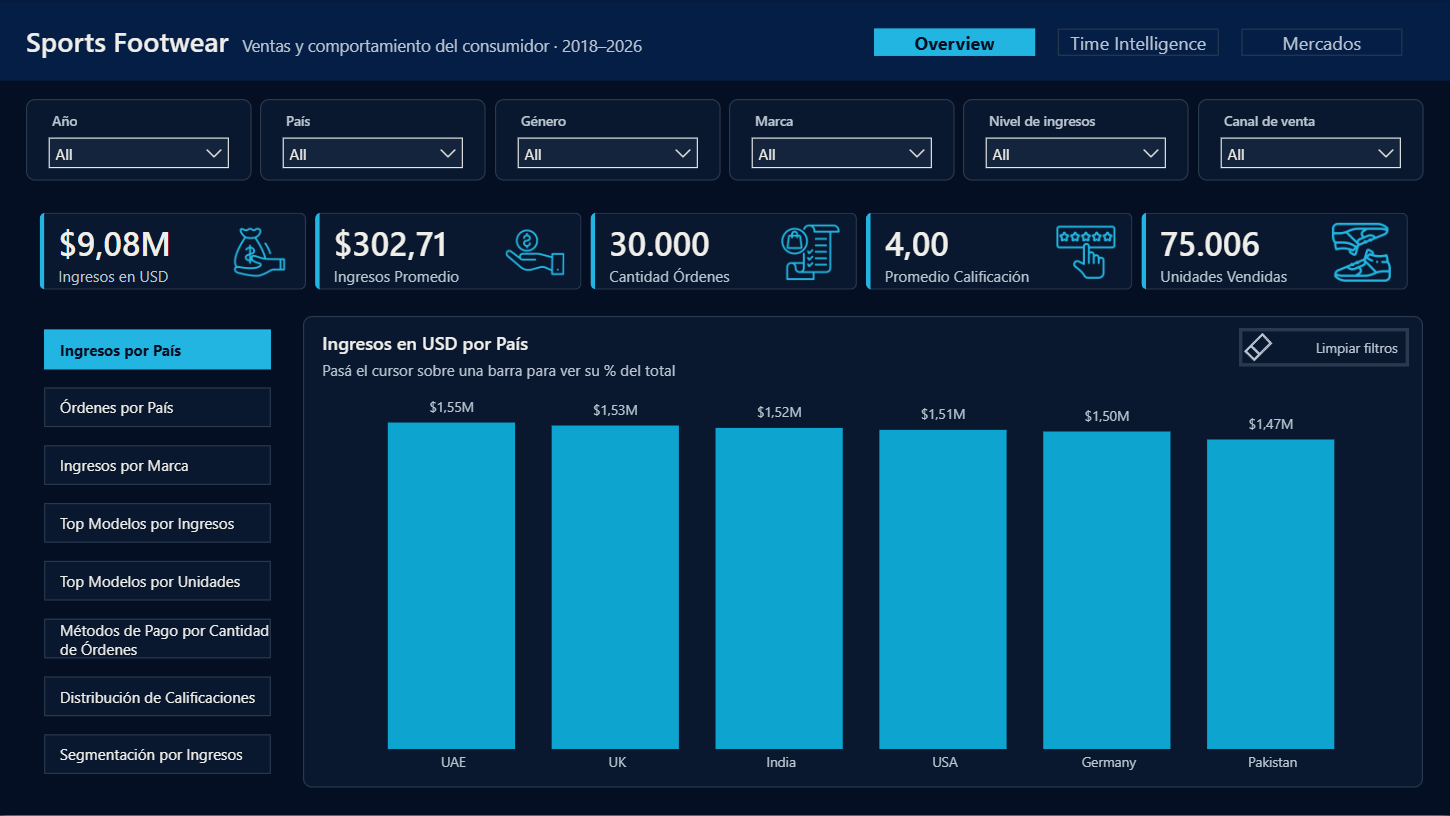

This screenshot's page, from the dashboard's own definition file:
{"tool":"powerbi","page":{"name":"Overview","canvas":[1280,720],"ordinal":0},"visuals":[{"type":"shape","box":[0,0,1279.8,175],"z":0},{"type":"pageNavigator","box":[992.7,9.6,261.5,69.1],"z":1000},{"type":"cardVisual","fields":{"Data":["Medidas.Ingresos en USD","Medidas.Ingreso Promedio por Órden","Medidas.Cantidad Órdenes","Medidas.Promedio Calificación de Cliente","Medidas.Unidades Vendidas"]},"box":[18,81.2,1249.1,99.2],"z":2000},{"type":"slicer","fields":{"Values":["Calendario.Año"]},"box":[32.1,9.6,117.2,69.1],"z":3000},{"type":"slicer","fields":{"Values":["df.Género"]},"box":[287.7,9.6,166.8,69.1],"z":4000},{"type":"slicer","fields":{"Values":["Marcas.Marca"]},"box":[461.3,9.6,159.3,69.1],"z":5000},{"type":"slicer","fields":{"Values":["df.Nivel de Ingresos del Cliente"]},"box":[627.9,9.6,142.8,69.1],"z":6000},{"type":"slicer","fields":{"Values":["Países.País"]},"box":[156.7,9.6,123.3,69.1],"z":7000},{"type":"slicer","fields":{"Values":["Canales de Venta.Canal de Venta"]},"box":[778,9.6,207.4,69.1],"z":8000},{"type":"clusteredColumnChart","fields":{"Y":["Medidas.Cantidad Órdenes"],"Category":["Fact_Dataframe.Calificación del Cliente"]},"box":[304.3,187.7,963.2,521.5],"z":9000},{"type":"bookmarkNavigator","box":[31.6,180.4,159.3,529.1],"z":10000},{"type":"slicer","title":"Categorías","fields":{"Values":["Categorías.Categorías"]},"box":[0,342.3,279.8,366.9],"z":11000},{"type":"slicer","title":"Métrica","fields":{"Values":["Métrica.Métrica"]},"box":[0,175.5,279.8,166.9],"z":12000},{"type":"actionButton","box":[1112.9,198.8,141.1,51.5],"z":13000}]}

Visuals, with their boxes in screenshot pixels (x1, y1, x2, y2), scaled from the page's 1280x720 canvas onto the 1450x816 screenshot:
shape: left=0, top=0, right=1449, bottom=198
pageNavigator: left=1125, top=11, right=1421, bottom=89
cardVisual - Medidas.Ingresos en USD x Medidas.Ingreso Promedio por Órden: left=20, top=92, right=1435, bottom=204
slicer - Calendario.Año: left=36, top=11, right=169, bottom=89
slicer - df.Género: left=326, top=11, right=515, bottom=89
slicer - Marcas.Marca: left=523, top=11, right=703, bottom=89
slicer - df.Nivel de Ingresos del Cliente: left=711, top=11, right=873, bottom=89
slicer - Países.País: left=178, top=11, right=317, bottom=89
slicer - Canales de Venta.Canal de Venta: left=881, top=11, right=1116, bottom=89
clusteredColumnChart - Medidas.Cantidad Órdenes x Fact_Dataframe.Calificación del Cliente: left=345, top=213, right=1436, bottom=804
bookmarkNavigator: left=36, top=204, right=216, bottom=804
"Categorías" slicer: left=0, top=388, right=317, bottom=804
"Métrica" slicer: left=0, top=199, right=317, bottom=388
actionButton: left=1261, top=225, right=1421, bottom=284
